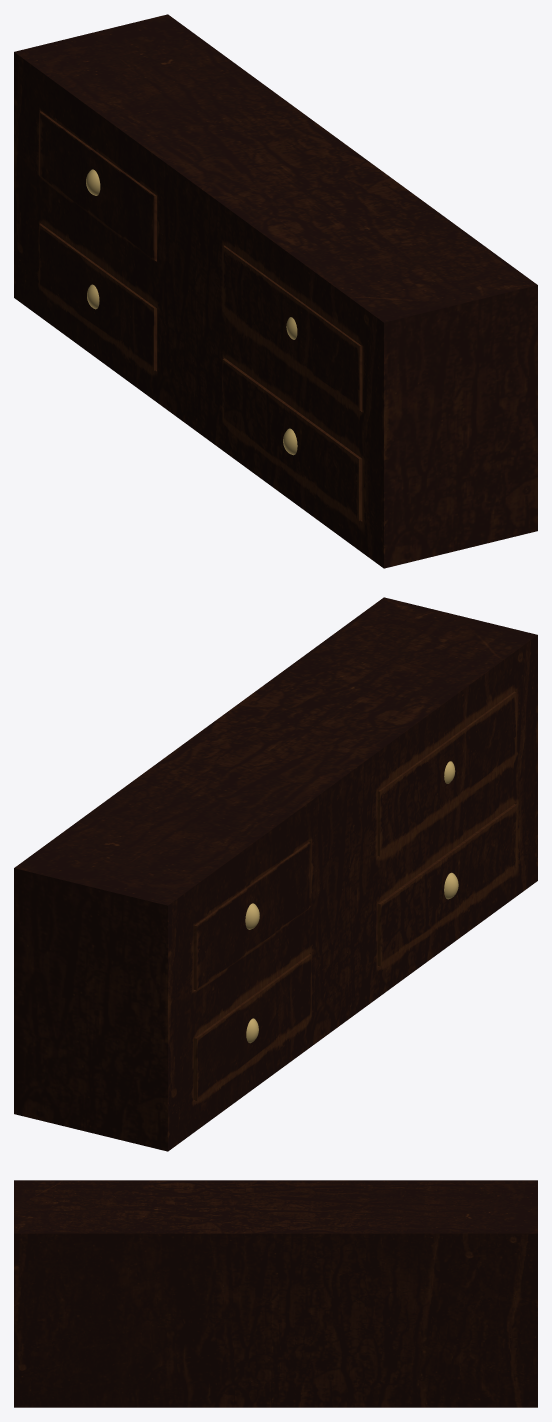
The model's file is mueble.fbx.
The picture shows the model from 3 angles, top to bottom: view 1: azimuth 30°, elevation 25°; view 2: azimuth 150°, elevation 25°; view 3: azimuth 270°, elevation 25°; orthographic projection. The views are drawn at different scales.
Visible parts, largest first — view 1: mueble; view 2: mueble; view 3: mueble.
Boxes of the visible parts, x1,y1,x2,y2 form: mueble: (14, 14, 537, 568); mueble: (14, 597, 537, 1151); mueble: (14, 1180, 537, 1407).
Size of the model in its own units: 62.28 by 89.72 by 245.
